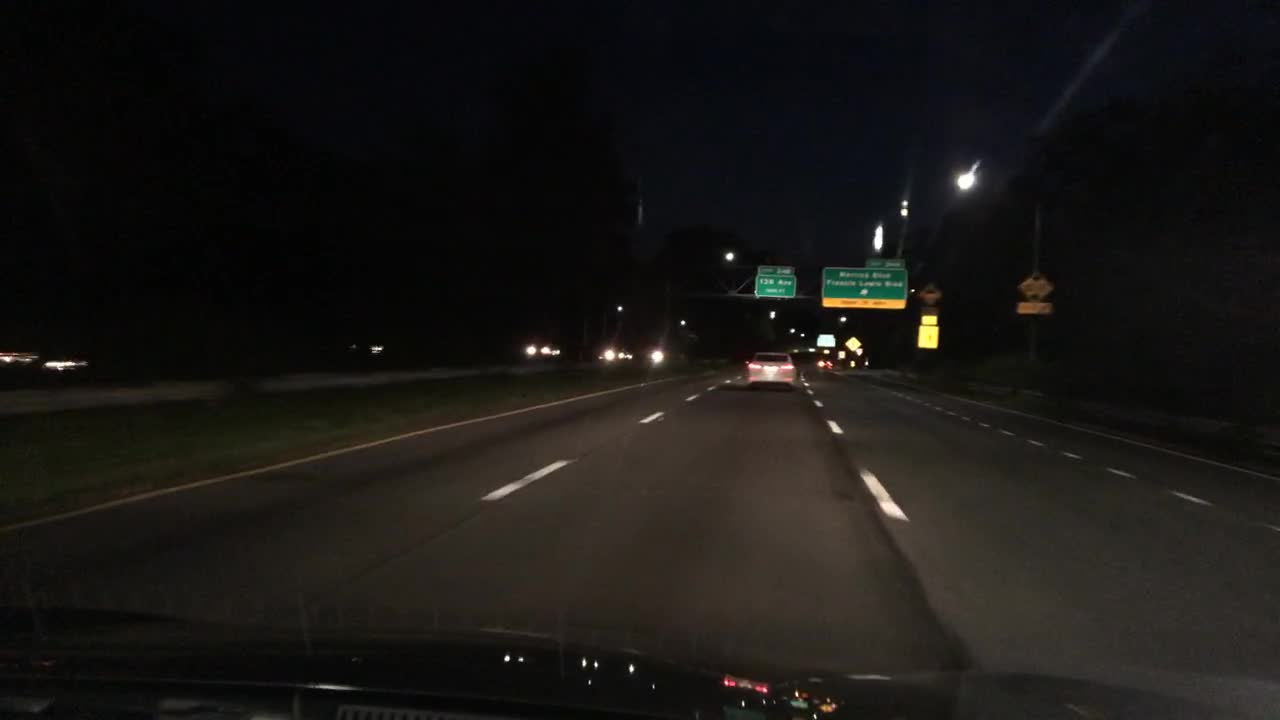car: (599, 313, 702, 375), (345, 316, 426, 364), (745, 348, 800, 392), (40, 348, 104, 382), (0, 341, 45, 380), (519, 336, 561, 360), (846, 352, 870, 372), (814, 354, 837, 372)
traffic sign: (821, 264, 907, 309), (753, 273, 797, 299), (1020, 269, 1054, 301), (917, 324, 940, 350), (1019, 299, 1056, 314), (865, 254, 907, 267), (757, 263, 796, 277), (920, 282, 942, 302), (920, 306, 940, 324), (816, 332, 837, 347), (846, 337, 862, 352), (837, 348, 848, 361)
